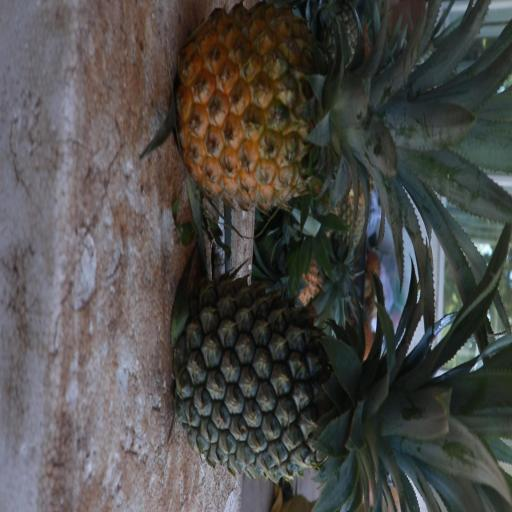Pineapple - v8 v1: (176, 9, 468, 199)
